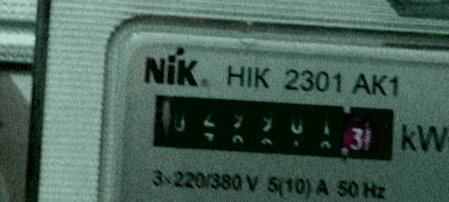0: (289, 107, 307, 137), (170, 105, 189, 133)
1: (320, 108, 335, 137)
2: (200, 101, 220, 129)
3: (348, 125, 367, 152)
9: (230, 103, 248, 131), (261, 106, 276, 134)
screen: (143, 84, 407, 172)
